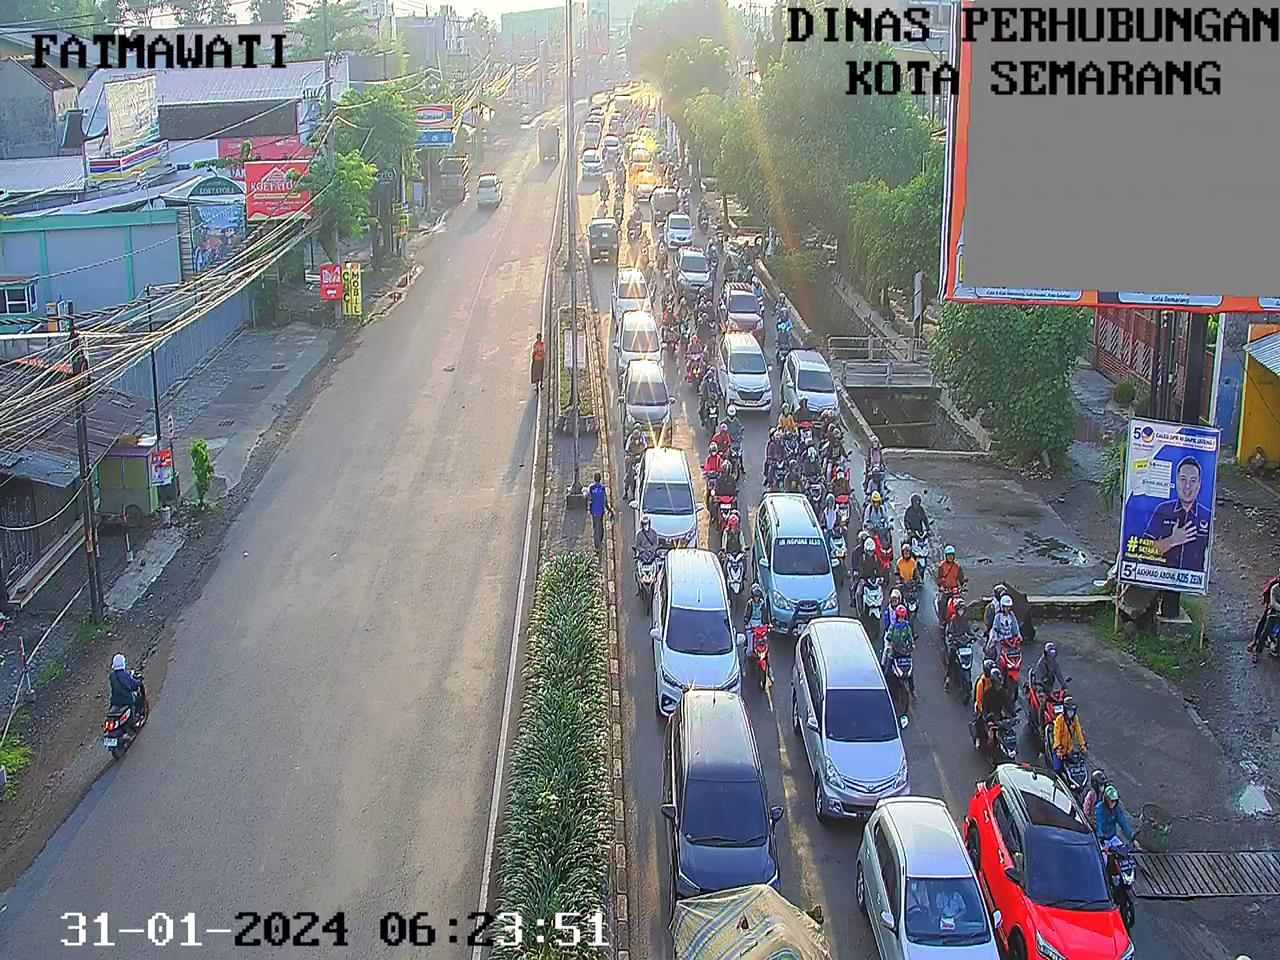bus: (607, 93, 646, 110)
car: (966, 758, 1130, 960), (847, 788, 1003, 960), (791, 618, 911, 817), (670, 688, 783, 882), (655, 546, 748, 692), (755, 488, 840, 634), (630, 447, 703, 543), (719, 326, 775, 412), (625, 363, 673, 449), (780, 346, 831, 416), (618, 310, 671, 362), (727, 275, 768, 338), (585, 209, 626, 267), (609, 263, 651, 312), (680, 245, 716, 295), (652, 178, 681, 220), (669, 211, 692, 249), (580, 153, 604, 177), (632, 147, 652, 175), (586, 120, 606, 143), (604, 131, 620, 155), (635, 173, 650, 198), (609, 108, 623, 130), (588, 111, 608, 126), (627, 134, 646, 149), (591, 108, 612, 120), (639, 121, 652, 137)
motorcycle: (1089, 762, 1148, 960), (973, 655, 1020, 756), (1025, 633, 1075, 721), (883, 591, 921, 706), (1048, 693, 1090, 793), (988, 578, 1026, 684), (745, 583, 781, 691), (629, 516, 670, 599), (856, 534, 890, 623), (719, 507, 754, 592), (947, 596, 979, 690), (866, 494, 902, 573), (930, 544, 968, 619), (901, 492, 935, 566), (897, 544, 927, 621), (818, 498, 848, 573), (623, 424, 654, 490), (713, 458, 741, 517), (701, 441, 732, 496), (725, 403, 750, 470), (833, 470, 860, 527), (801, 449, 824, 509), (702, 365, 724, 425), (867, 468, 895, 511), (766, 422, 787, 479), (830, 425, 852, 480), (862, 439, 890, 477), (796, 394, 819, 441), (712, 422, 735, 466), (659, 304, 681, 348), (784, 460, 810, 497), (780, 400, 802, 439), (707, 301, 723, 350), (686, 334, 703, 380), (680, 295, 695, 343), (774, 322, 790, 363), (644, 260, 660, 301), (775, 291, 794, 325), (821, 404, 841, 437), (656, 231, 671, 266), (637, 228, 652, 261), (612, 190, 625, 227), (694, 279, 709, 314), (749, 274, 763, 308), (633, 200, 648, 228), (698, 198, 711, 229), (626, 212, 639, 240), (615, 161, 629, 188), (599, 175, 612, 201), (715, 218, 726, 247), (725, 256, 738, 280), (707, 239, 718, 267), (664, 270, 673, 303), (744, 262, 756, 282), (682, 192, 692, 215), (741, 244, 752, 262), (677, 175, 690, 191), (599, 201, 611, 217), (669, 156, 677, 176), (646, 91, 653, 108), (658, 155, 665, 167), (629, 96, 638, 103), (640, 93, 644, 102), (639, 109, 642, 117), (629, 105, 632, 113)
